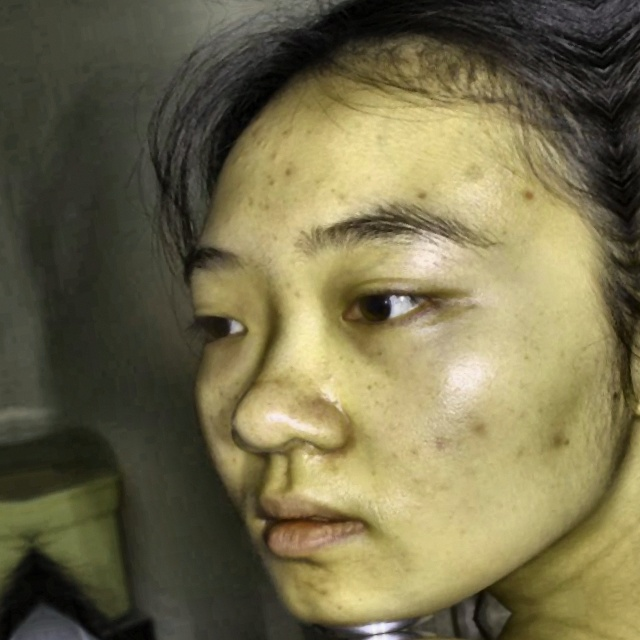comedone: (304, 570, 337, 607), (537, 430, 577, 455), (272, 158, 303, 190), (464, 416, 497, 446), (515, 180, 538, 211)
